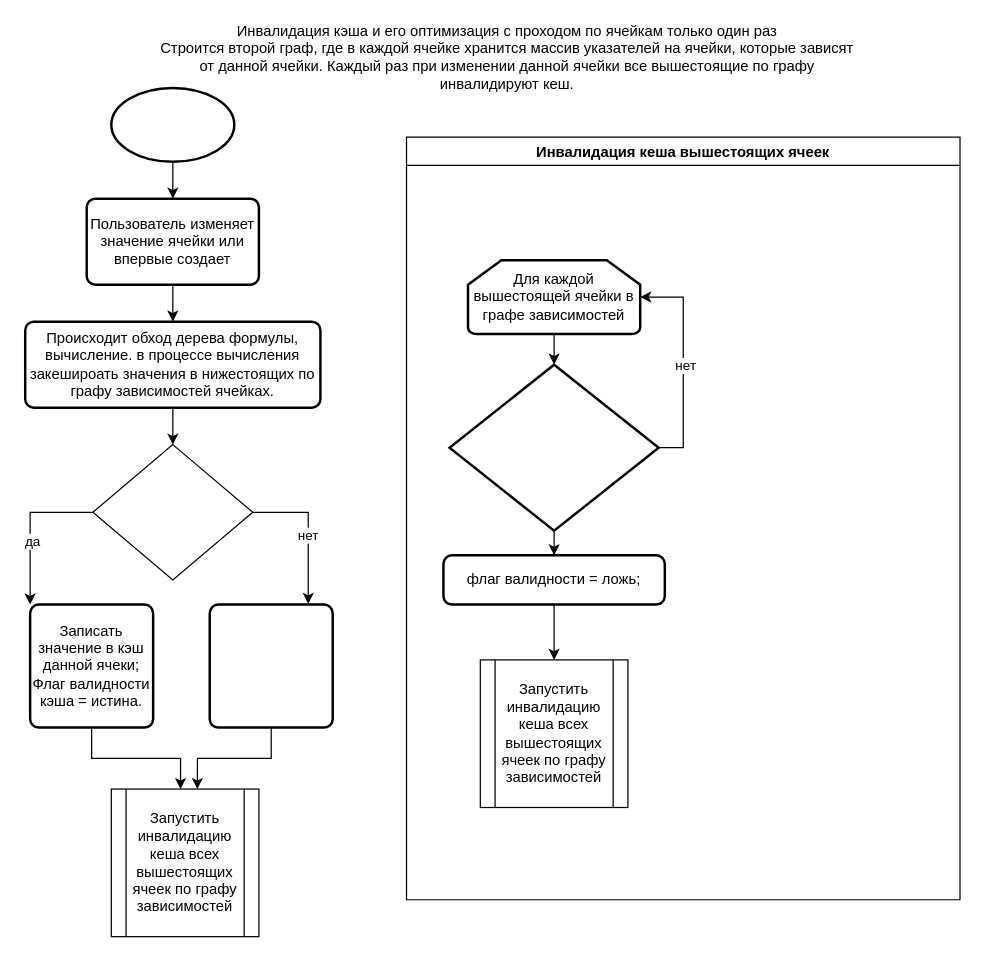
The diagram is 982 pixels wide and 958 high, and some of its shapes have lost their labels. Each missing label, with the box of its shape:
start: (109, 86, 235, 162)
Вычисление формулы вернуло значение типа double?: (92, 443, 253, 580)
Инвалидировать кэш данной ячеки (флаг валидности = ложь).: (208, 603, 333, 728)
флаг валидности кеша ячейки == истина?: (448, 363, 659, 531)
